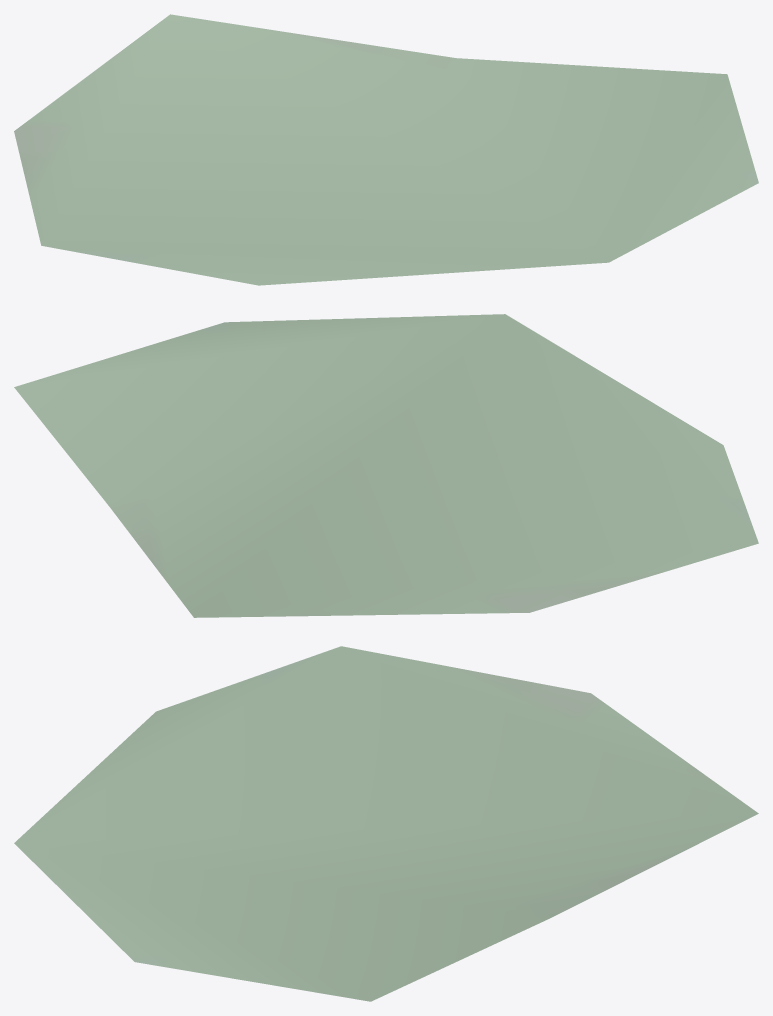
The model's file is TROLLHOLE02_HOLECAP128.fbx.
3 views of the same model, one above another, from view 1: azimuth 30°, elevation 25°; view 2: azimuth 150°, elevation 25°; view 3: azimuth 270°, elevation 25° (orthographic). The views are drawn at different scales.
Parts seen in each view (by area): view 1: TROLLHOLE02_HOLECAP128; view 2: TROLLHOLE02_HOLECAP128; view 3: TROLLHOLE02_HOLECAP128.
Part boxes in pixels (left/top/right/bottom): TROLLHOLE02_HOLECAP128: left=14, top=14, right=758, bottom=285; TROLLHOLE02_HOLECAP128: left=14, top=314, right=758, bottom=617; TROLLHOLE02_HOLECAP128: left=14, top=646, right=758, bottom=1001.
Size of the model in its own units: 33078 by 818 by 30154.
1 material, 1 textured.
